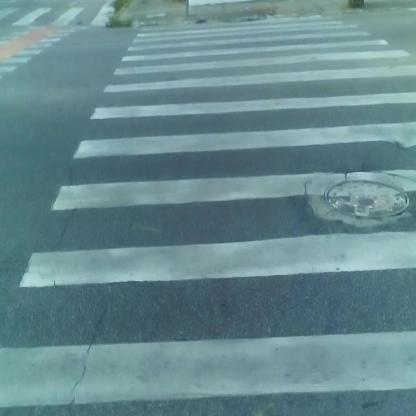crosswalk: (82, 27, 409, 416), (3, 2, 113, 58)
sidewalk: (108, 2, 416, 31)
